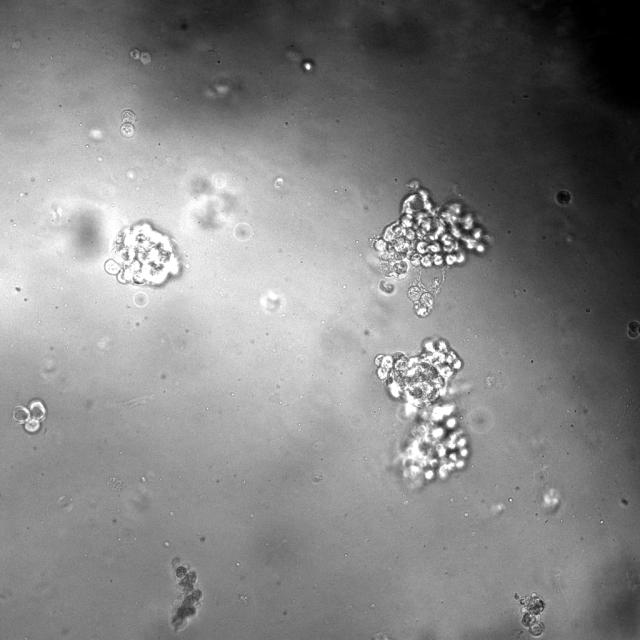organoid: (372, 180, 490, 317), (374, 338, 469, 489), (105, 223, 179, 286), (170, 557, 202, 631), (514, 592, 544, 637), (12, 398, 46, 434), (120, 109, 135, 138), (129, 48, 151, 65), (554, 189, 572, 206), (379, 279, 395, 295), (627, 320, 639, 339)
